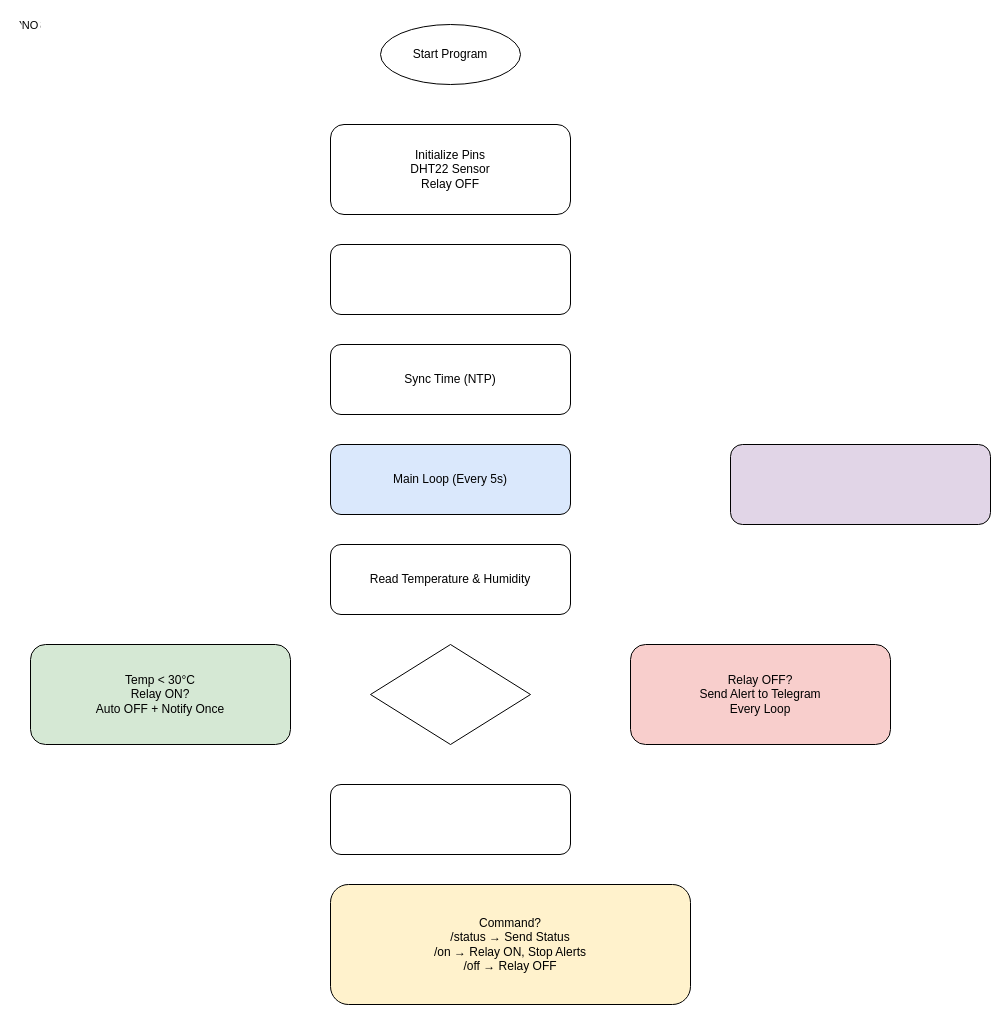
The diagram is 1008 pixels wide and 1022 high, and some of its shapes have lost their labels. Here are the shapes that lost their labels. From the top down, the centre of each, then its label:
(450,279): Connect to WiFi
(860,484): Exception? Wait 3s & Retry Loop
(450,694): Temp ≥ 30°C ?
(450,819): Check Telegram Updates
